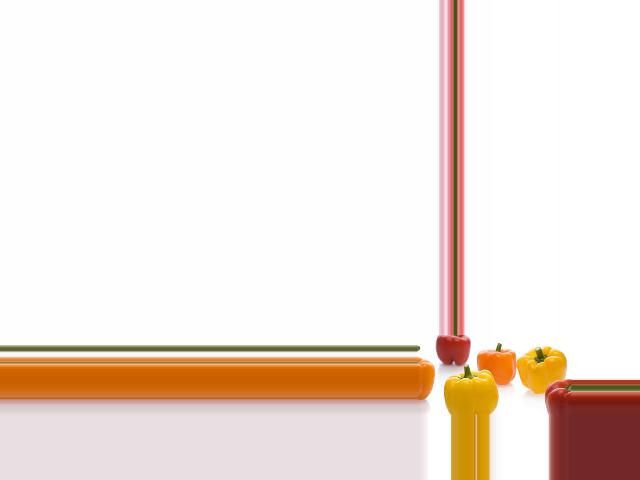bell_pepper: (416, 355, 437, 399)
